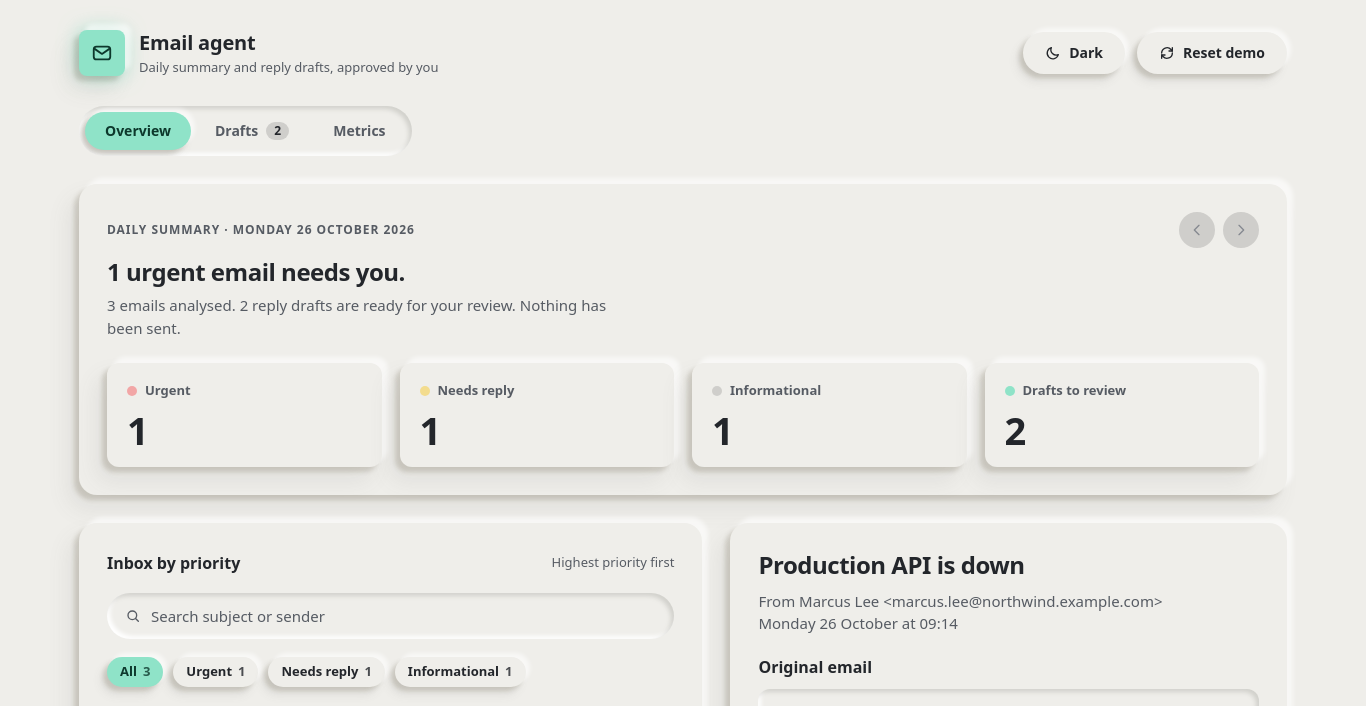
App › remembers the chosen theme
Click the button with aria-label "Switch to dark theme" at (1074, 53), box 1023,32 -> 1125,74
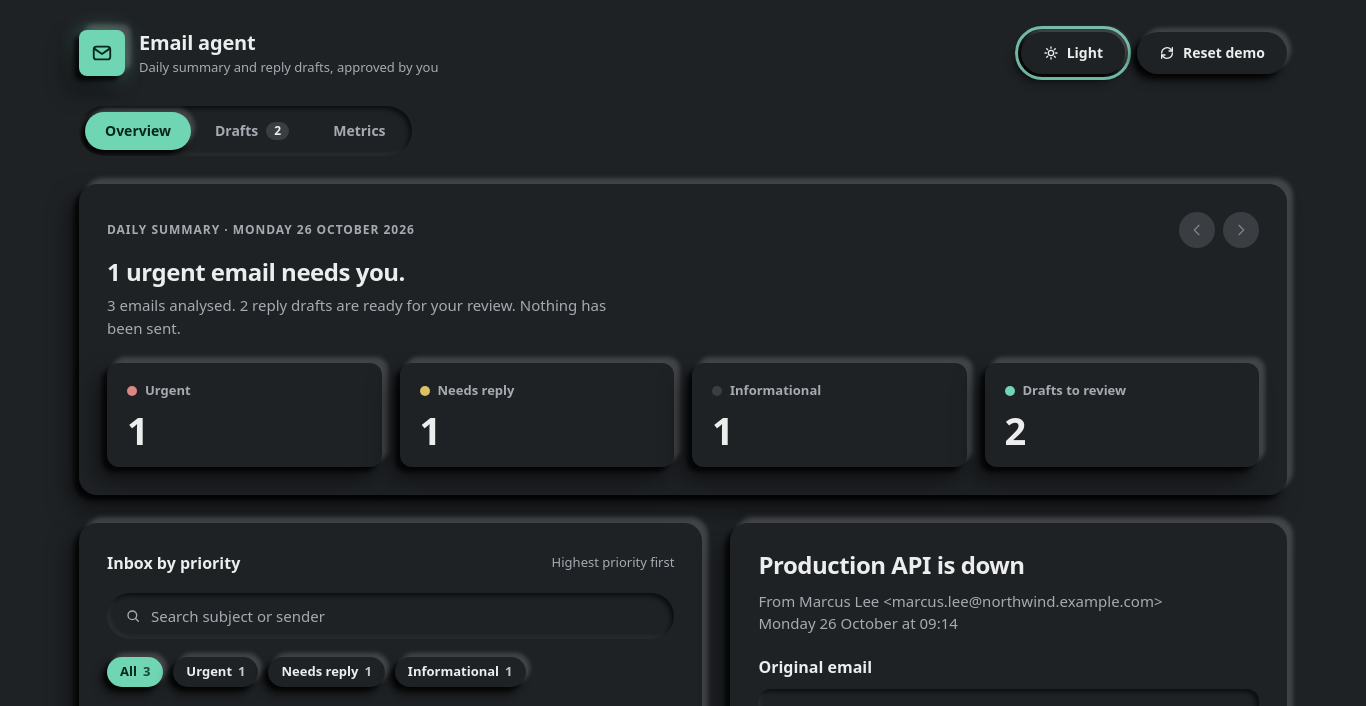
expect the button with aria-label "Switch to light theme" is shown: met, box 1021,32 -> 1125,74
